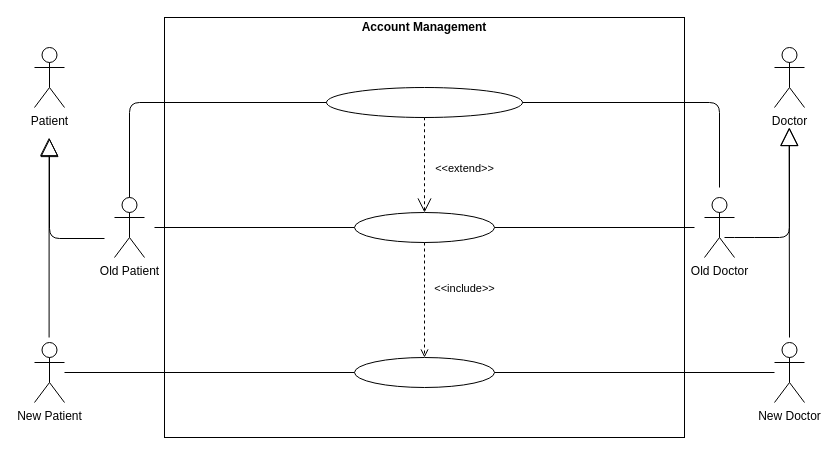
The diagram is 838 pixels wide and 455 high, and some of its shapes have lost their labels. The shapes that lost their labels are listed below. From the top down, each one's box as (x1, y1, x2, y2) in pixels, then its label:
(326, 86, 522, 118): Modify account information
(354, 212, 494, 242): Sign in
(354, 356, 494, 388): Sign up
